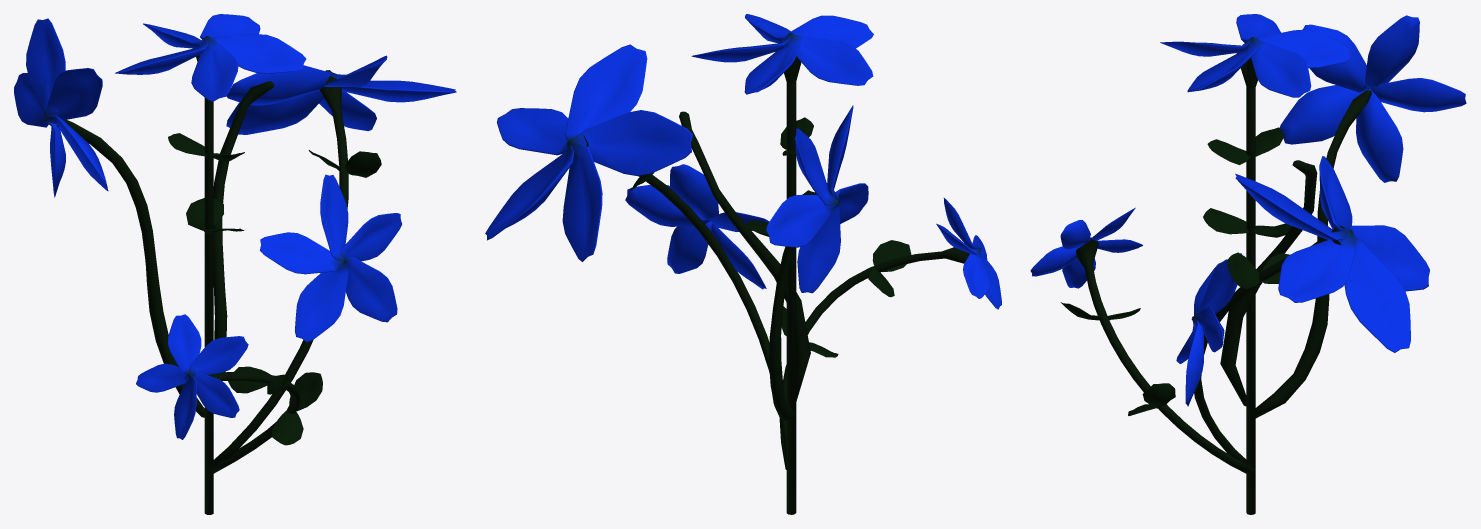
File: Flower_Kamini.fbx
3 views of the same model, side by side, from view 1: azimuth 30°, elevation 25°; view 2: azimuth 150°, elevation 25°; view 3: azimuth 270°, elevation 25° (orthographic).
Parts seen in each view (by area): view 1: Kamini; view 2: Kamini; view 3: Kamini.
Boxes of the visible parts, <box> form: Kamini: <box>14,14,456,514</box>; Kamini: <box>485,14,1001,514</box>; Kamini: <box>1030,14,1466,514</box>.
Bounding box in the file's own units: 9.37 × 10.69 × 8.89.
